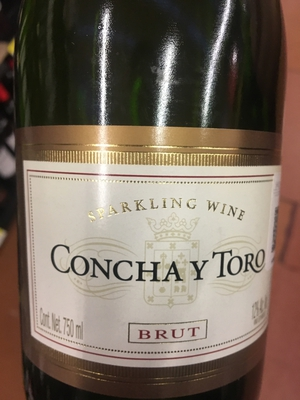brut: (14, 10, 284, 390)
